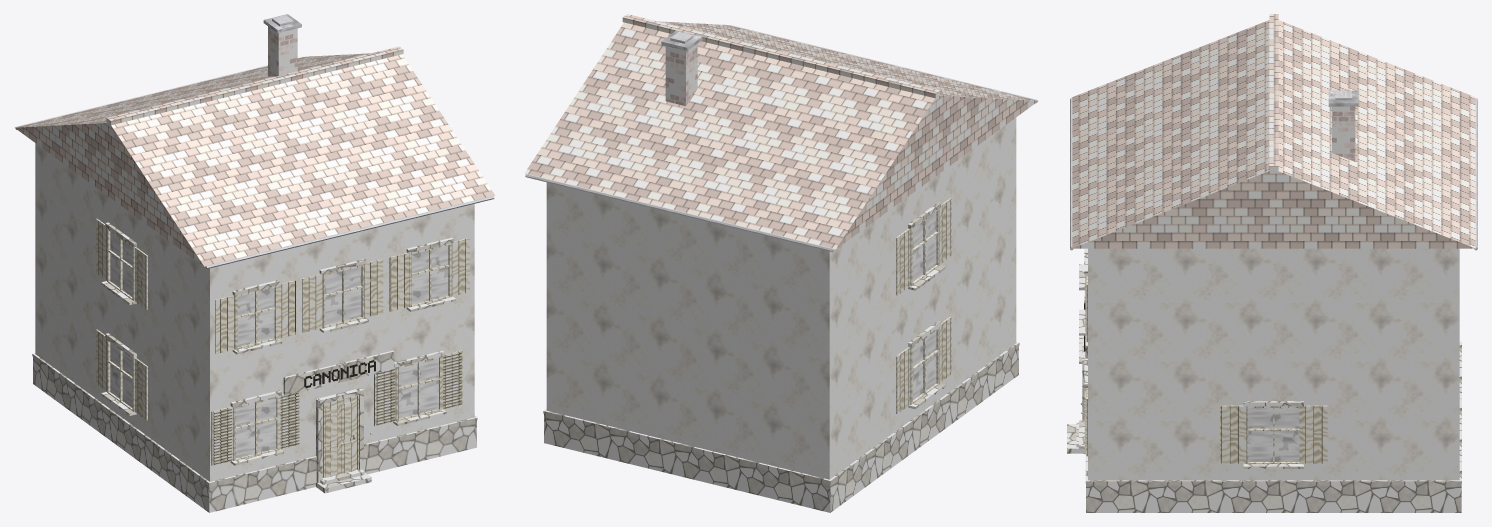
The model's file is canonica.obj.
3 views of the same model, side by side, from view 1: azimuth 30°, elevation 25°; view 2: azimuth 150°, elevation 25°; view 3: azimuth 270°, elevation 25° (orthographic). The views are drawn at different scales.
Parts seen in each view (by area): view 1: tegole_002, intonaco_000, pietra_001, legno_023, legno_019, legno_031, legno_035, legno_027, pietra_007, vetro_016, vetro_020, vetro_032 (+24 smaller); view 2: intonaco_000, tegole_002, pietra_001, mattone_004, metallo_003, legno_047, legno_043, vetro_044, vetro_040, legno_045, legno_041; view 3: intonaco_000, tegole_002, pietra_001, legno_039, vetro_036, mattone_004, metallo_003, legno_037, pietra_038.
Boxes of the visible parts, left/top/right/bottom form: tegole_002: left=15, top=46, right=495, bottom=266; intonaco_000: left=35, top=143, right=474, bottom=481; pietra_001: left=32, top=353, right=477, bottom=512; legno_023: left=211, top=392, right=299, bottom=465; legno_019: left=374, top=350, right=462, bottom=425; legno_031: left=302, top=259, right=383, bottom=332; legno_035: left=389, top=238, right=469, bottom=311; legno_027: left=215, top=280, right=296, bottom=353; pietra_007: left=283, top=350, right=394, bottom=395; vetro_016: left=398, top=358, right=438, bottom=418; vetro_020: left=236, top=398, right=276, bottom=458; vetro_032: left=411, top=245, right=448, bottom=304; intonaco_000: left=546, top=117, right=1016, bottom=479; tegole_002: left=524, top=14, right=1037, bottom=249; pietra_001: left=543, top=342, right=1019, bottom=512; mattone_004: left=665, top=44, right=697, bottom=106; metallo_003: left=525, top=25, right=1037, bottom=251; legno_047: left=896, top=198, right=951, bottom=295; legno_043: left=896, top=316, right=951, bottom=413; vetro_044: left=912, top=212, right=936, bottom=281; vetro_040: left=912, top=331, right=936, bottom=400; legno_045: left=910, top=208, right=939, bottom=286; legno_041: left=910, top=327, right=939, bottom=404; intonaco_000: left=1088, top=248, right=1459, bottom=480; tegole_002: left=1071, top=14, right=1475, bottom=248; pietra_001: left=1085, top=341, right=1461, bottom=512; legno_039: left=1220, top=405, right=1327, bottom=463; vetro_036: left=1248, top=408, right=1299, bottom=461; mattone_004: left=1332, top=106, right=1355, bottom=161; metallo_003: left=1070, top=98, right=1477, bottom=250; legno_037: left=1245, top=406, right=1302, bottom=463; pietra_038: left=1243, top=401, right=1303, bottom=468.
Bounding box in the file's own units: 7.74 × 9.03 × 8.84.
21 materials, 20 textured.
